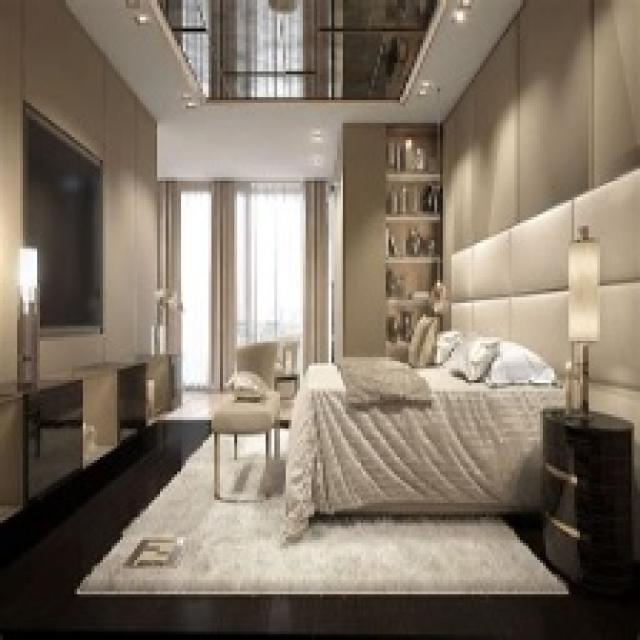bed: (313, 360, 532, 501)
